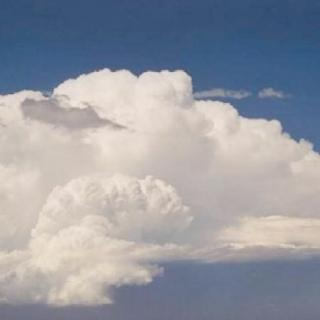Cumulonimbus: (0, 64, 320, 314)
